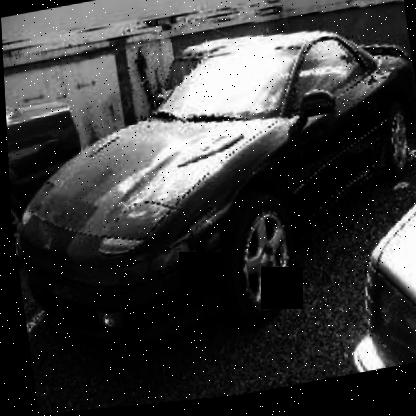not_emergency: (1, 17, 415, 320)
